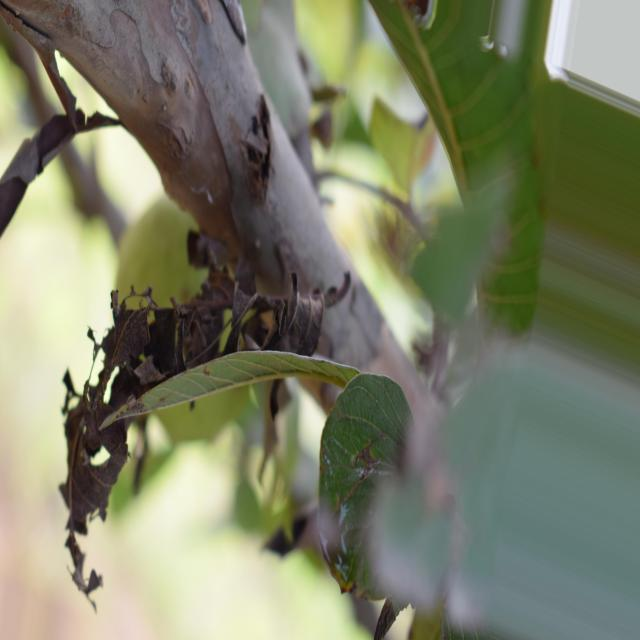Canker: (61, 232, 351, 592), (319, 373, 412, 600)
